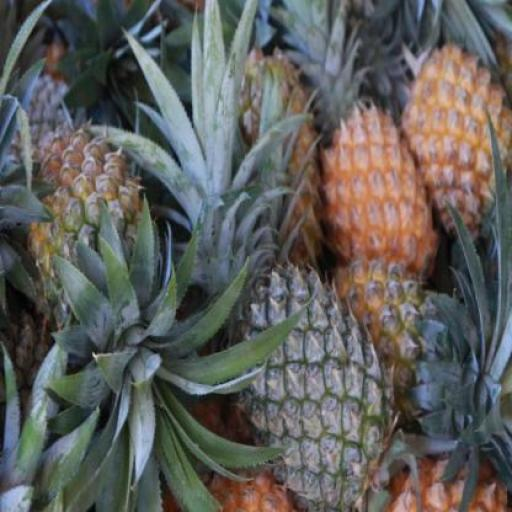------------------------------: (19, 122, 158, 333)
Pineapple - v8 v1: (405, 40, 511, 254), (318, 104, 433, 284)
